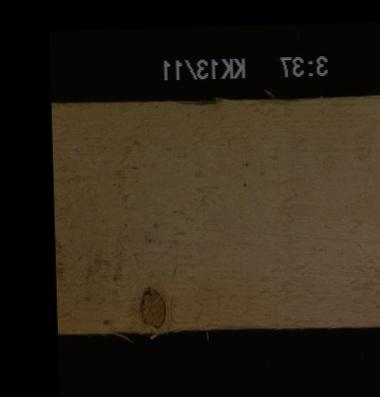dry_knot: (138, 285, 166, 329)
